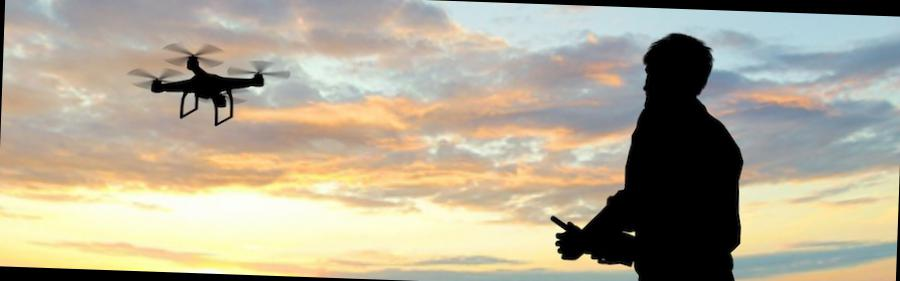drone: (128, 40, 288, 130)
